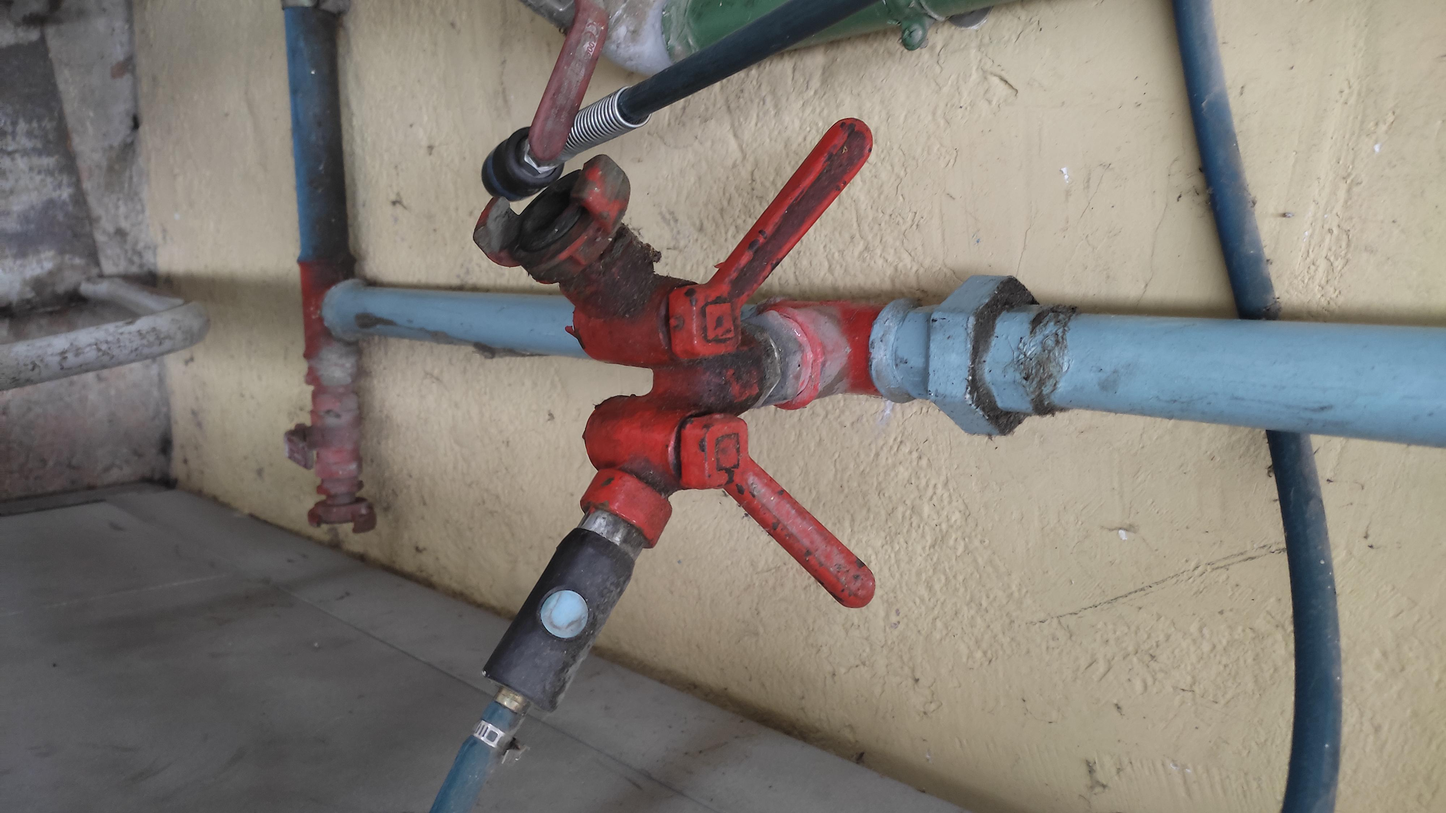closed valve: (542, 64, 910, 427), (560, 350, 938, 656)
